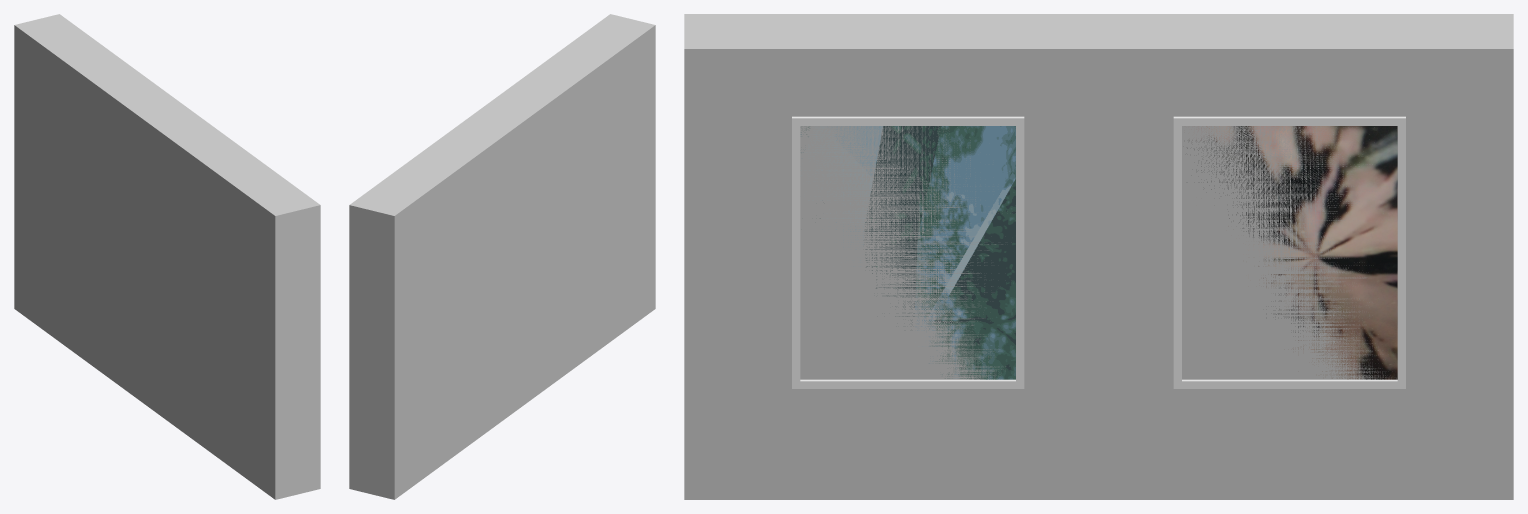
File: wall_pic_double_vert_5x3x0.5.glb
3 renders of one model, left to right at view 1: azimuth 30°, elevation 25°; view 2: azimuth 150°, elevation 25°; view 3: azimuth 270°, elevation 25°, orthographic. The views are drawn at different scales.
Parts seen in each view (by area): view 1: Wall; view 2: Wall; view 3: Wall, Plane.001, Plane, Frame, Frame.001.
Boxes of the visible parts, left/top/right/bottom form: Wall: left=14, top=14, right=320, bottom=499; Wall: left=349, top=14, right=655, bottom=499; Wall: left=684, top=14, right=1513, bottom=499; Plane.001: left=800, top=126, right=1015, bottom=379; Plane: left=1187, top=126, right=1397, bottom=379; Frame: left=1173, top=116, right=1405, bottom=388; Frame.001: left=792, top=116, right=1024, bottom=388.
Size of the model in its own units: 0.525 by 3 by 5.
Materials: 4 (2 with a texture image).
